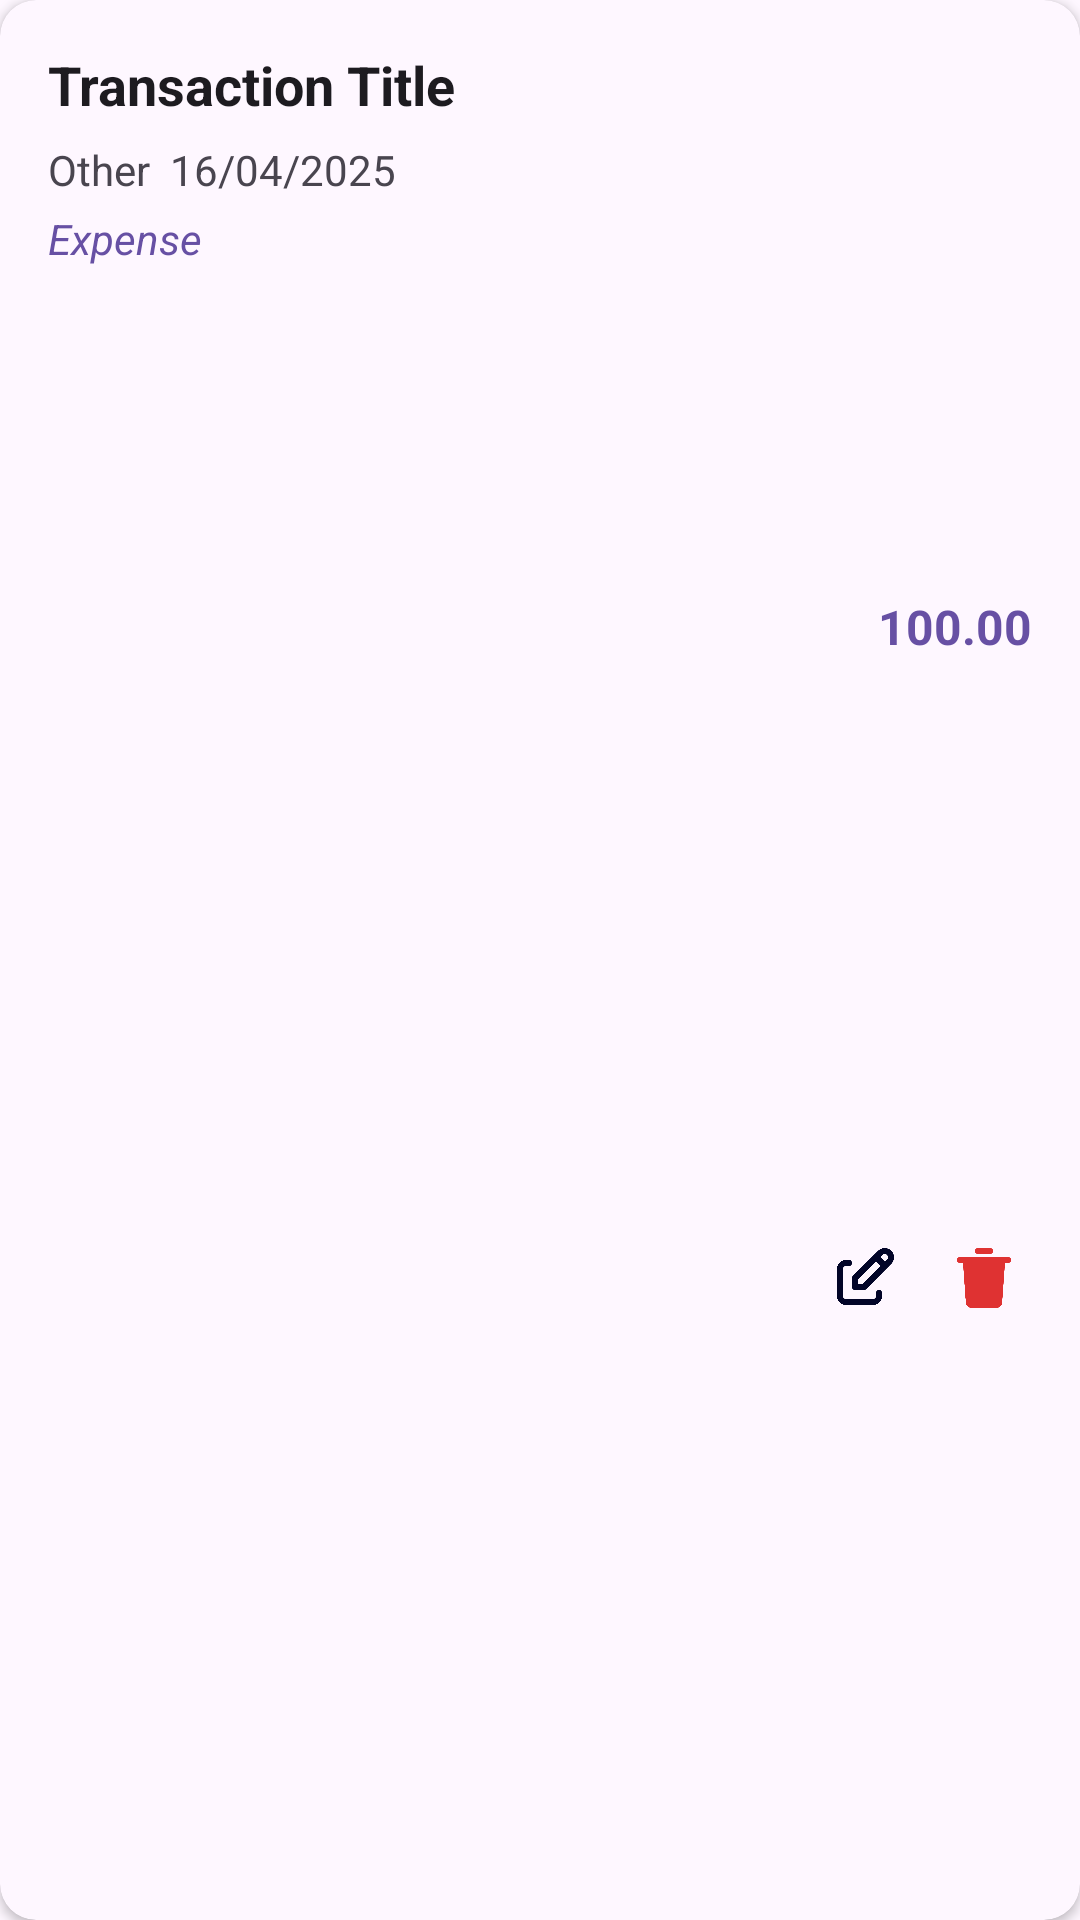

Named icons in this screenshot (1080*1920) and their centers, point (x, y):
Delete transaction: point (984, 1278)
Edit transaction: point (865, 1276)
